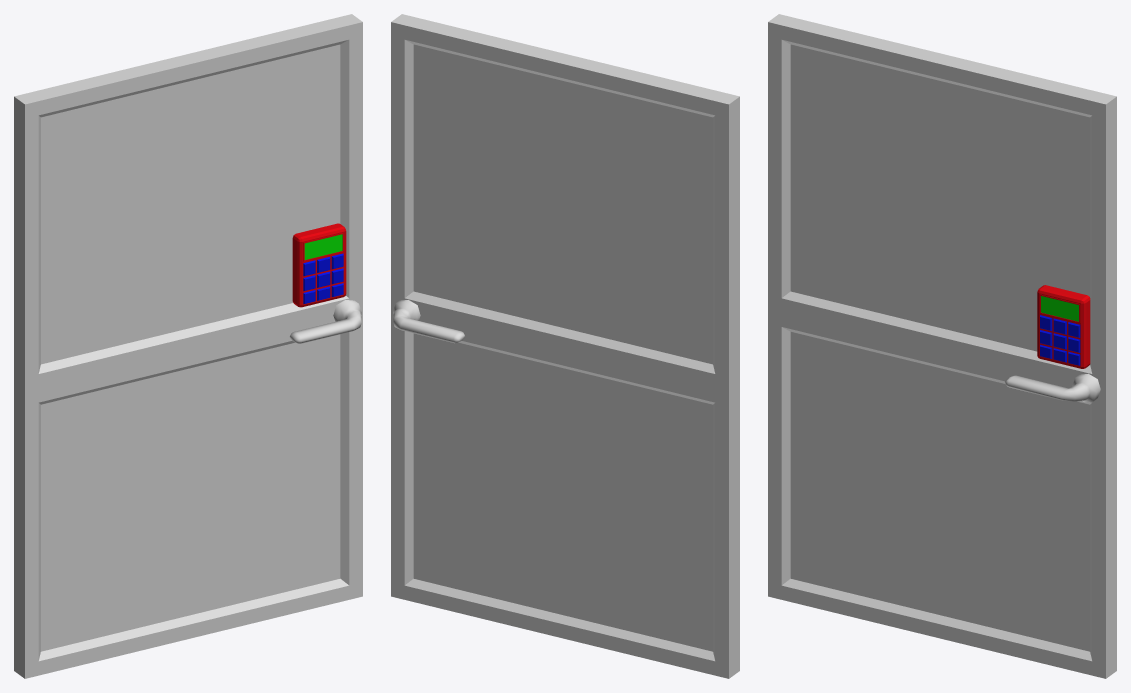
The model's file is Door.fbx.
3 renders of one model, left to right at view 1: azimuth 30°, elevation 25°; view 2: azimuth 150°, elevation 25°; view 3: azimuth 330°, elevation 25°, orthographic.
Visible parts, largest first — view 1: Door, Keypads, DoorHandle; view 2: Door, DoorHandle; view 3: Door, Keypads, DoorHandle.
Boxes of the visible parts, x1=… form: Door: x1=14, y1=14, x2=362, y2=678; Keypads: x1=292, y1=223, x2=346, y2=307; DoorHandle: x1=289, y1=300, x2=361, y2=343; Door: x1=391, y1=14, x2=739, y2=678; DoorHandle: x1=393, y1=300, x2=464, y2=343; Door: x1=768, y1=14, x2=1116, y2=678; Keypads: x1=1037, y1=285, x2=1090, y2=368; DoorHandle: x1=1005, y1=373, x2=1100, y2=402.
Bounding box in the file's own units: 80.04 × 130 × 19.25.
